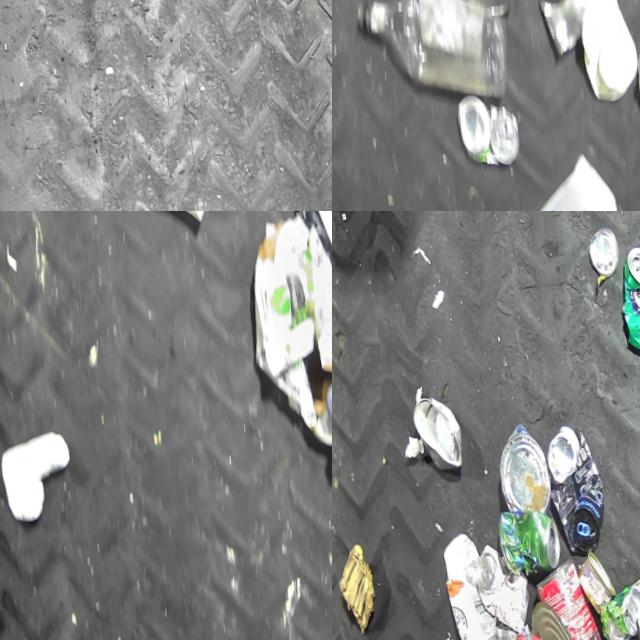can: (539, 423, 603, 552), (446, 89, 521, 175), (526, 556, 600, 640), (468, 542, 526, 634), (491, 422, 548, 511), (493, 507, 557, 575), (408, 390, 460, 467), (530, 0, 597, 54), (592, 574, 640, 640), (571, 550, 612, 614), (616, 243, 640, 352), (523, 600, 580, 640), (585, 225, 618, 276), (625, 34, 640, 110)
milk_jug: (483, 156, 624, 211)
